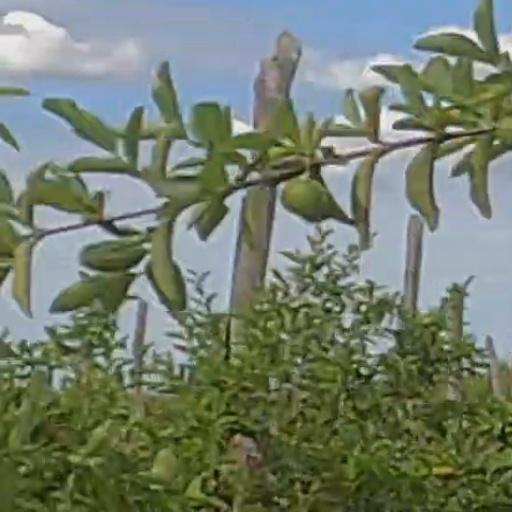acerola: (284, 178, 323, 215)
